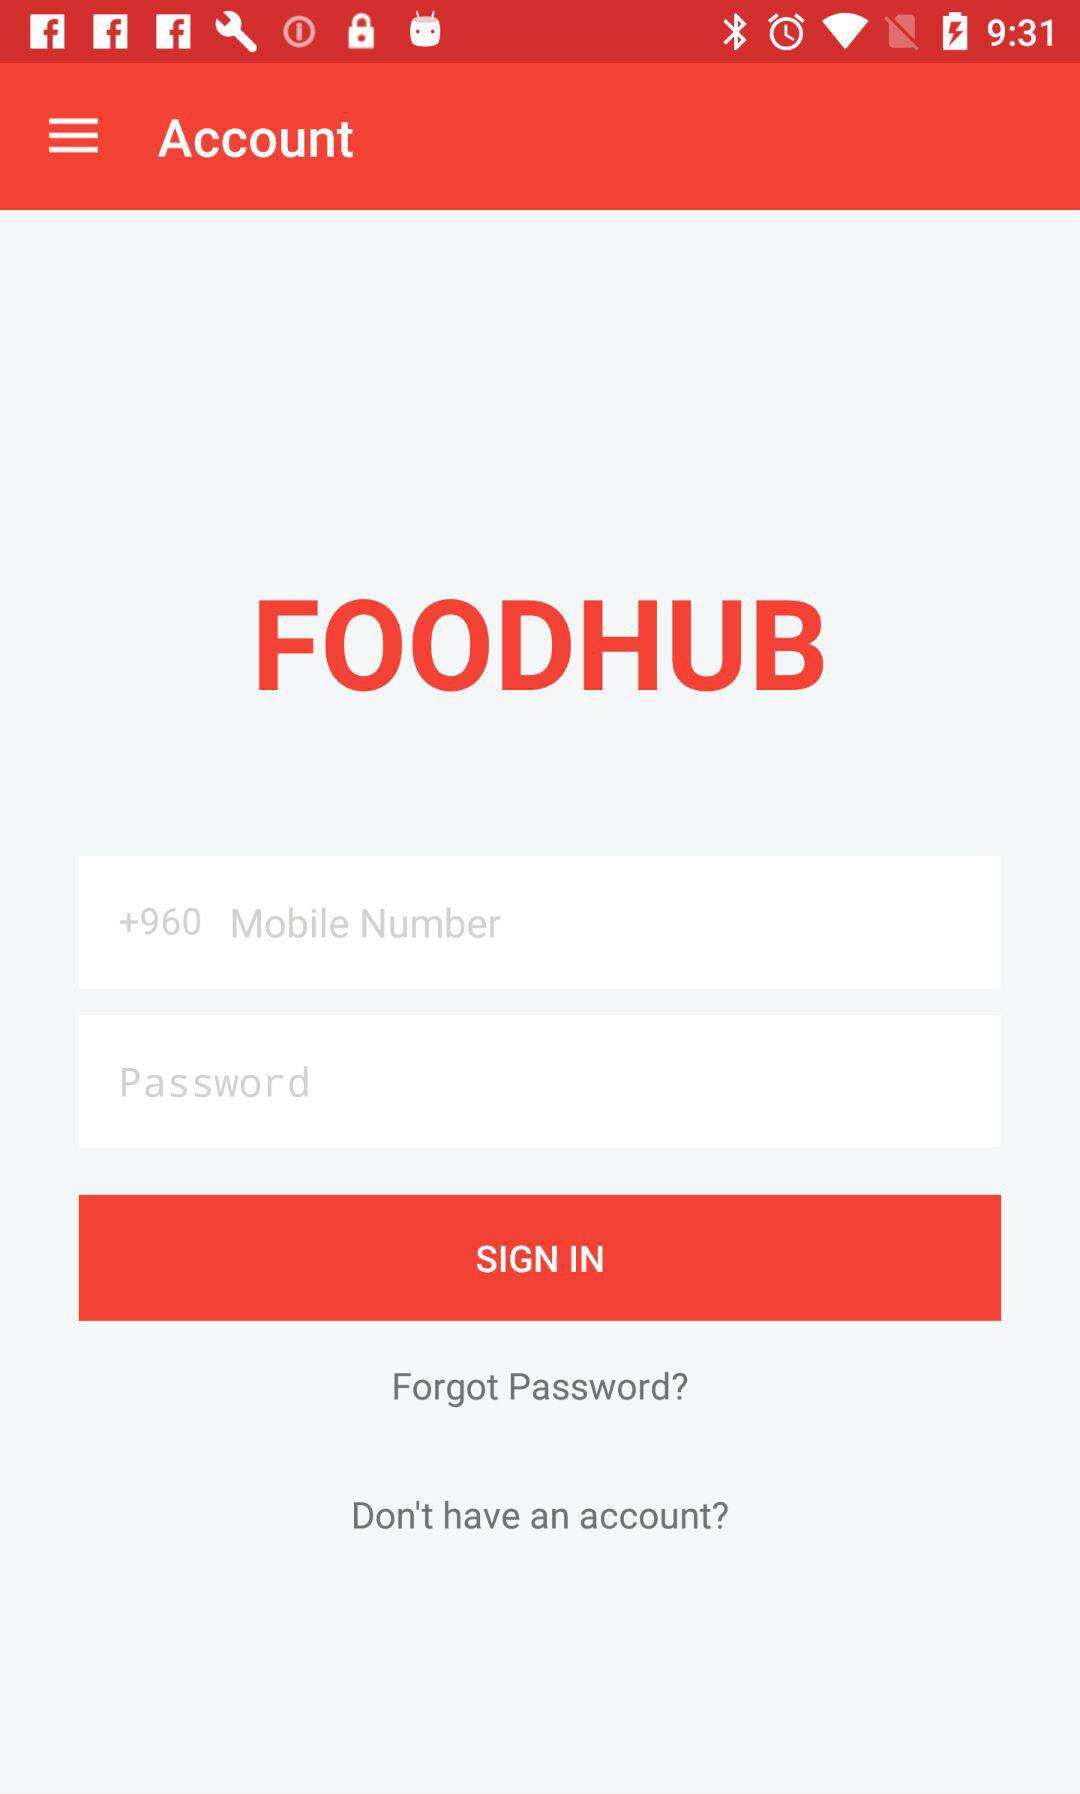EditText: (77, 855, 1002, 991), (77, 1016, 1002, 1151)
Icon: (47, 117, 100, 156)
Text: (259, 598, 825, 693), (354, 1501, 729, 1531), (395, 1371, 689, 1408), (233, 907, 501, 939), (158, 119, 355, 160), (123, 1066, 310, 1099), (120, 909, 202, 935)
TextButton: (79, 1194, 1002, 1321)
Toolbar: (1, 64, 1080, 211)
UpperTaskBar: (1, 1, 1080, 64)
